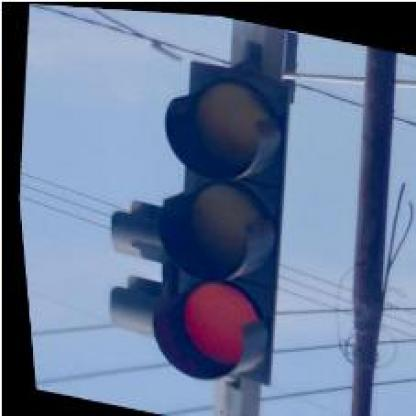red: (123, 51, 313, 392)
